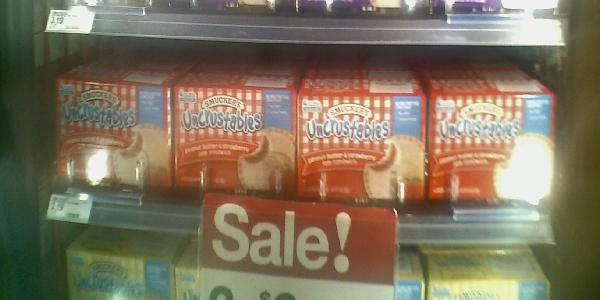icecream: (175, 72, 297, 219), (429, 69, 555, 207), (297, 82, 426, 205), (53, 74, 175, 204)
